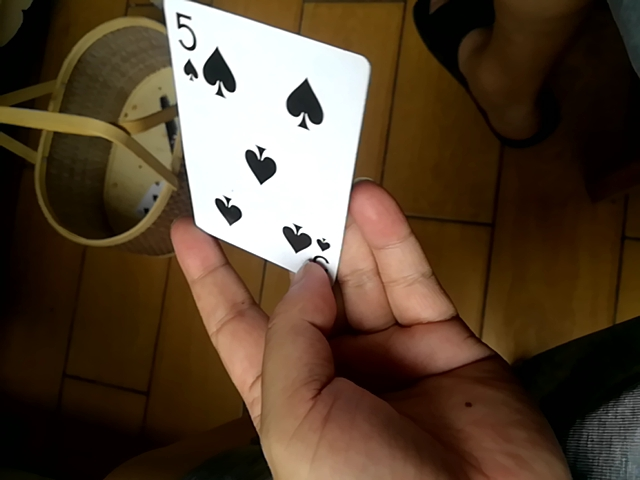ht 5: (162, 1, 366, 285)
